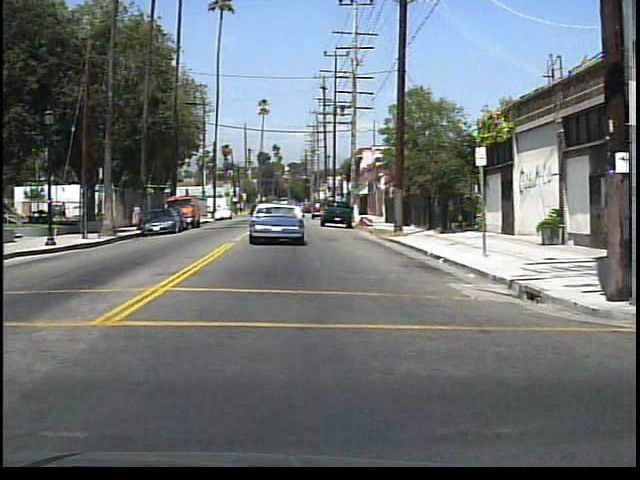person: (57, 199, 71, 225), (94, 196, 108, 222), (132, 201, 144, 229)
